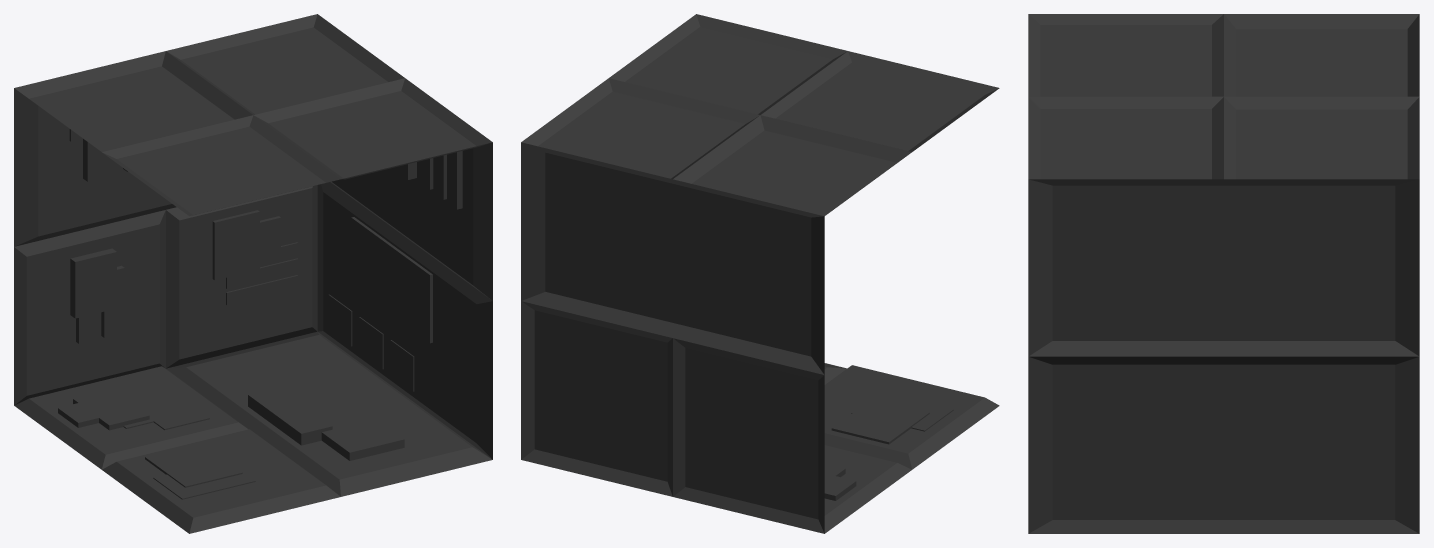
Rendered from tunnel_left_01.obj.
3 renders of one model, left to right at view 1: azimuth 30°, elevation 25°; view 2: azimuth 150°, elevation 25°; view 3: azimuth 270°, elevation 25°, orthographic. The views are drawn at different scales.
Visible parts, largest first — view 1: tunnel; view 2: tunnel; view 3: tunnel.
Part boxes in pixels (bbox=[...]): tunnel: bbox=[14, 14, 492, 533]; tunnel: bbox=[521, 14, 999, 533]; tunnel: bbox=[1028, 14, 1419, 533].
Size of the model in its own units: 15.56 by 15.56 by 15.56.
1 material, 1 textured.
